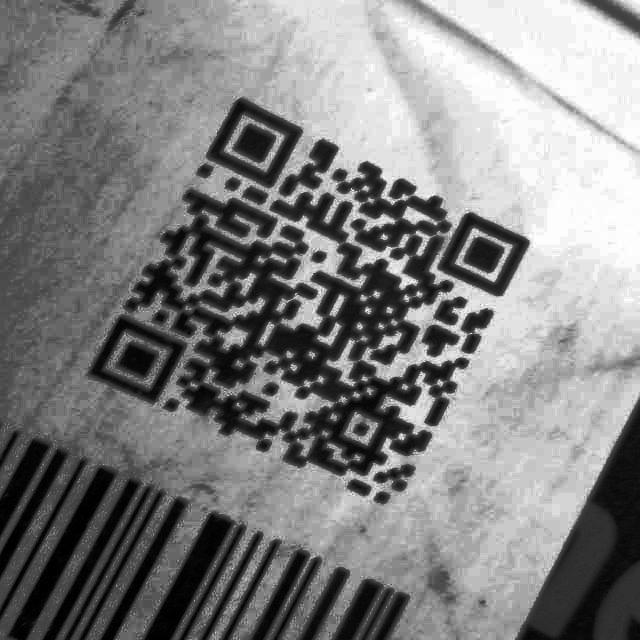qr_code: (70, 82, 545, 514)
